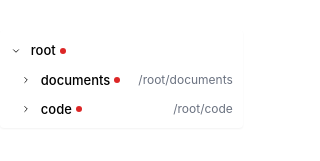
Test: FolderBrowser › Expanding/Collapsing Folders › collapses folder when chevron is clicked on expanded folder
This screenshot has width=320, height=161.
First expand
Click the button without text in the row of "/root/documents" at (26, 80), box [21,75,31,85]
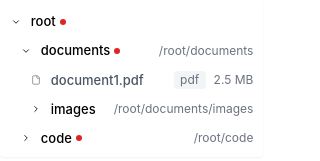
Now the text "document1.pdf" is shown, box [51,72,156,88]
Then collapse
Click the 2nd button at (26, 51), box [21,46,31,56]
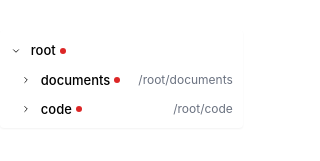
Now the text "document1.pdf" is gone
